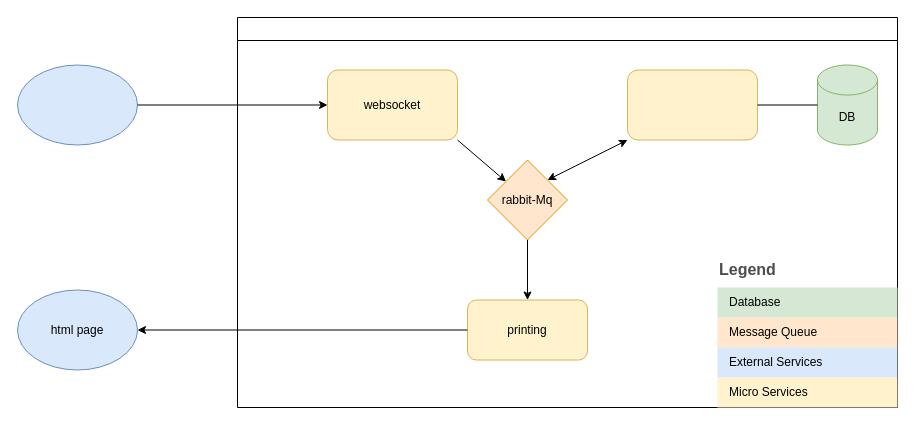
This 915x425 diagram has some shape labels left out. Here are the shapes that lost their labels. From the top down, the box of each, then its label:
(16, 64, 138, 145): email service
(626, 69, 758, 140): data
